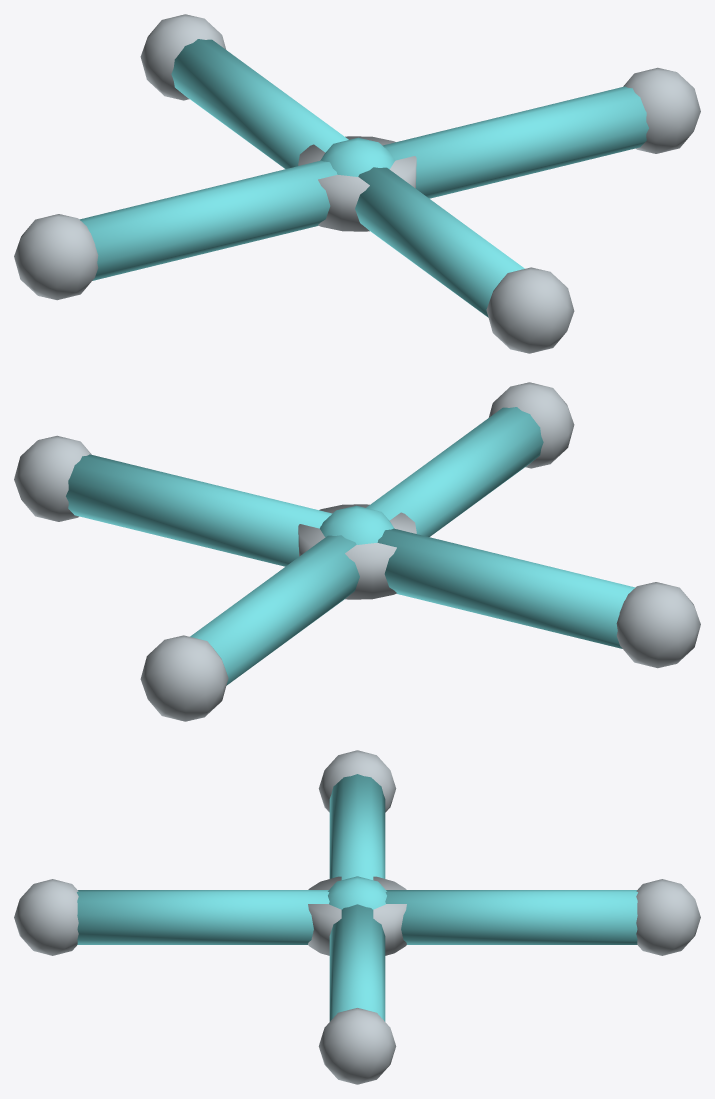
File: conduit_cross_standard.glb
3 views of the same model, one above another, from view 1: azimuth 30°, elevation 25°; view 2: azimuth 150°, elevation 25°; view 3: azimuth 270°, elevation 25° (orthographic). The views are drawn at different scales.
Parts seen in each view (by area): view 1: Conduit_cyan, Coupler_steel, JunctionCap_steel, Junction_cyan; view 2: Conduit_cyan, Coupler_steel, JunctionCap_steel, Junction_cyan; view 3: Conduit_cyan, Coupler_steel, JunctionCap_steel, Junction_cyan.
Part boxes in pixels (box(x1,y1,x2,y2)): Conduit_cyan: box(79, 39, 648, 317); Coupler_steel: box(14, 14, 700, 353); JunctionCap_steel: box(298, 136, 416, 231); Junction_cyan: box(320, 137, 395, 176); Conduit_cyan: box(66, 407, 635, 685); Coupler_steel: box(14, 382, 700, 721); JunctionCap_steel: box(298, 504, 416, 599); Junction_cyan: box(319, 505, 394, 544); Conduit_cyan: box(77, 774, 637, 1021); Coupler_steel: box(14, 750, 700, 1084); JunctionCap_steel: box(308, 876, 406, 955); Junction_cyan: box(328, 876, 386, 909).
Bounding box in the file's own units: 2.48 × 0.3 × 2.48.
